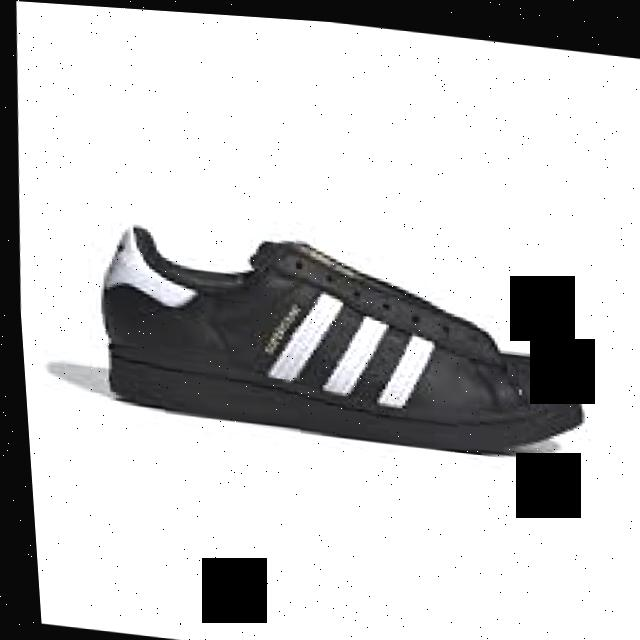shoe: (78, 210, 596, 461)
